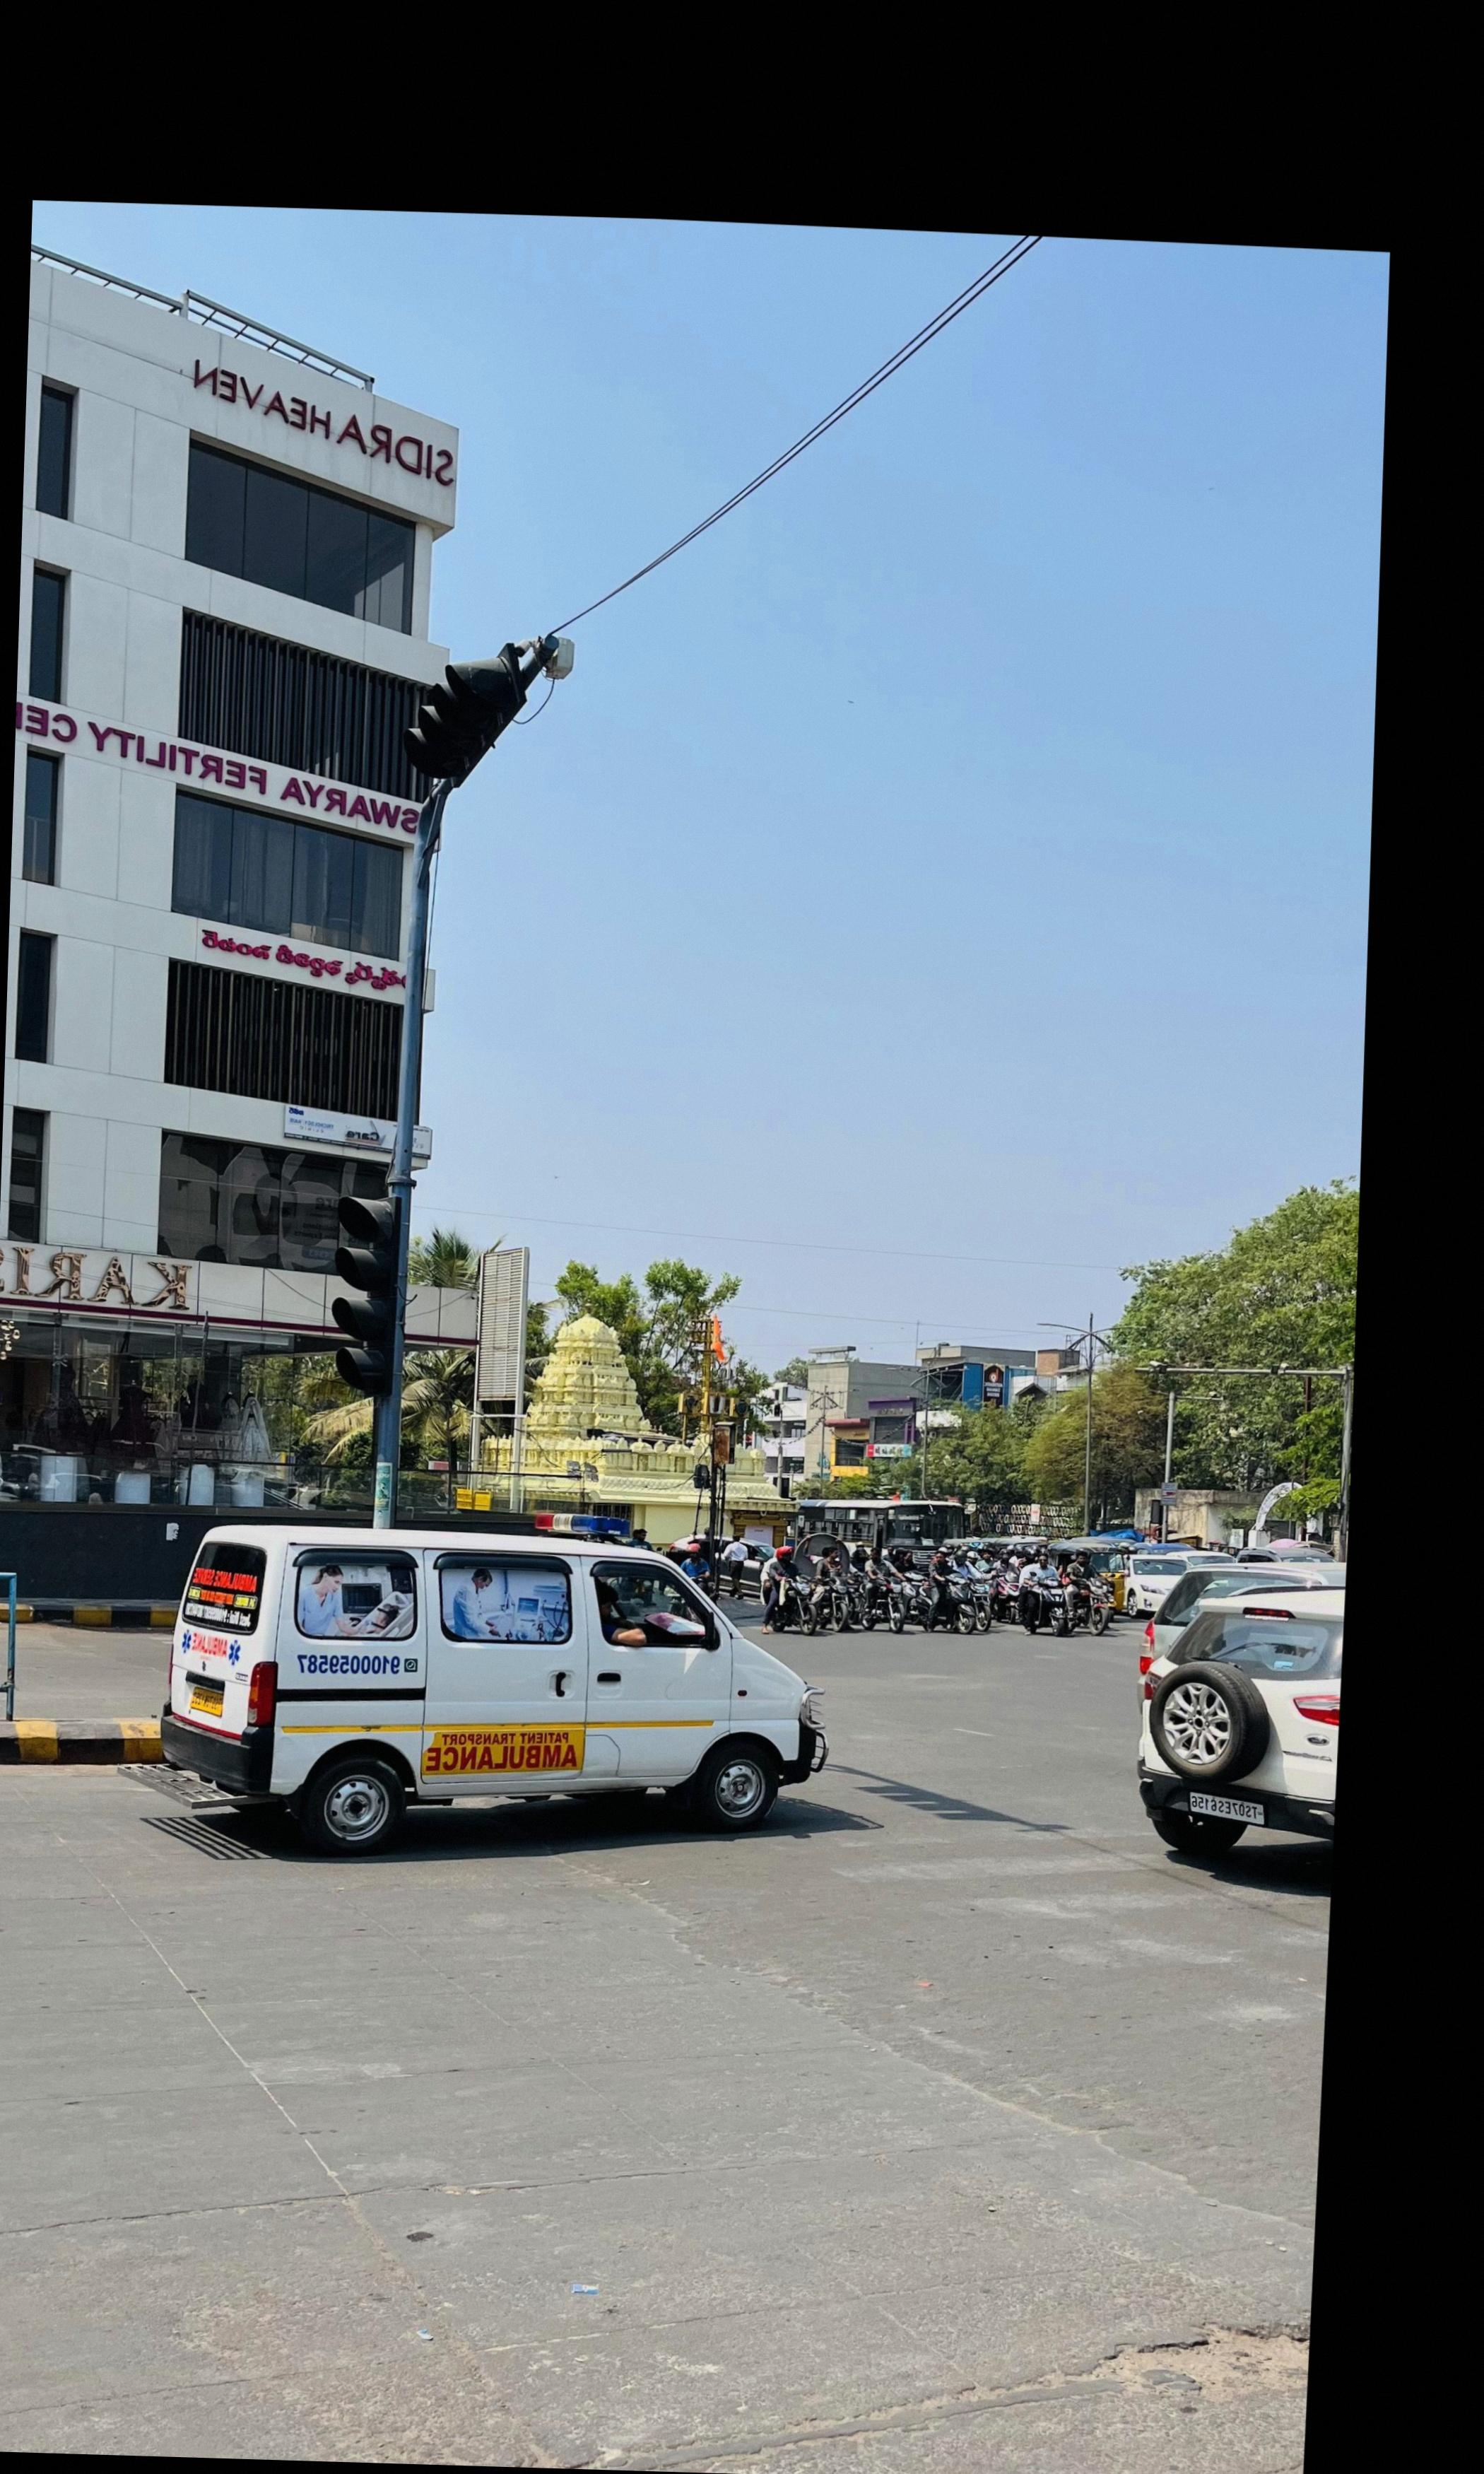ambulance: (159, 1516, 823, 1863)
